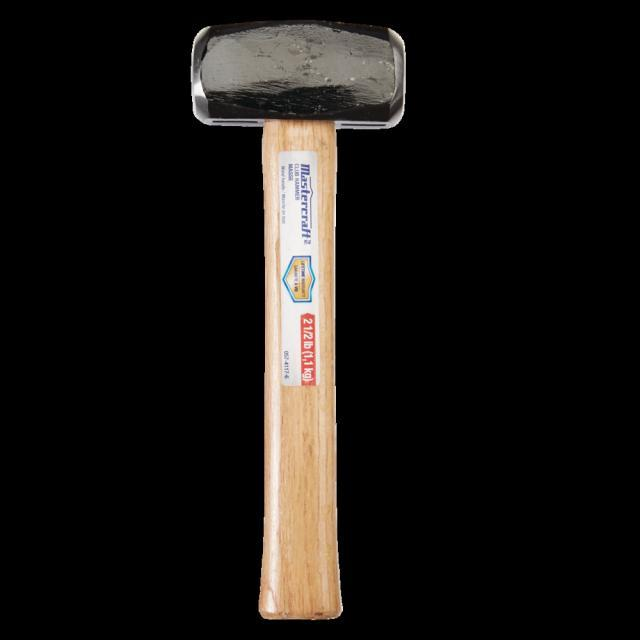hammer: (184, 5, 426, 640)
